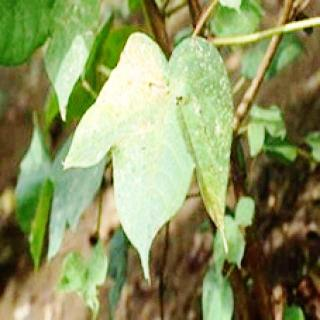grey mildew: (67, 23, 230, 248)
